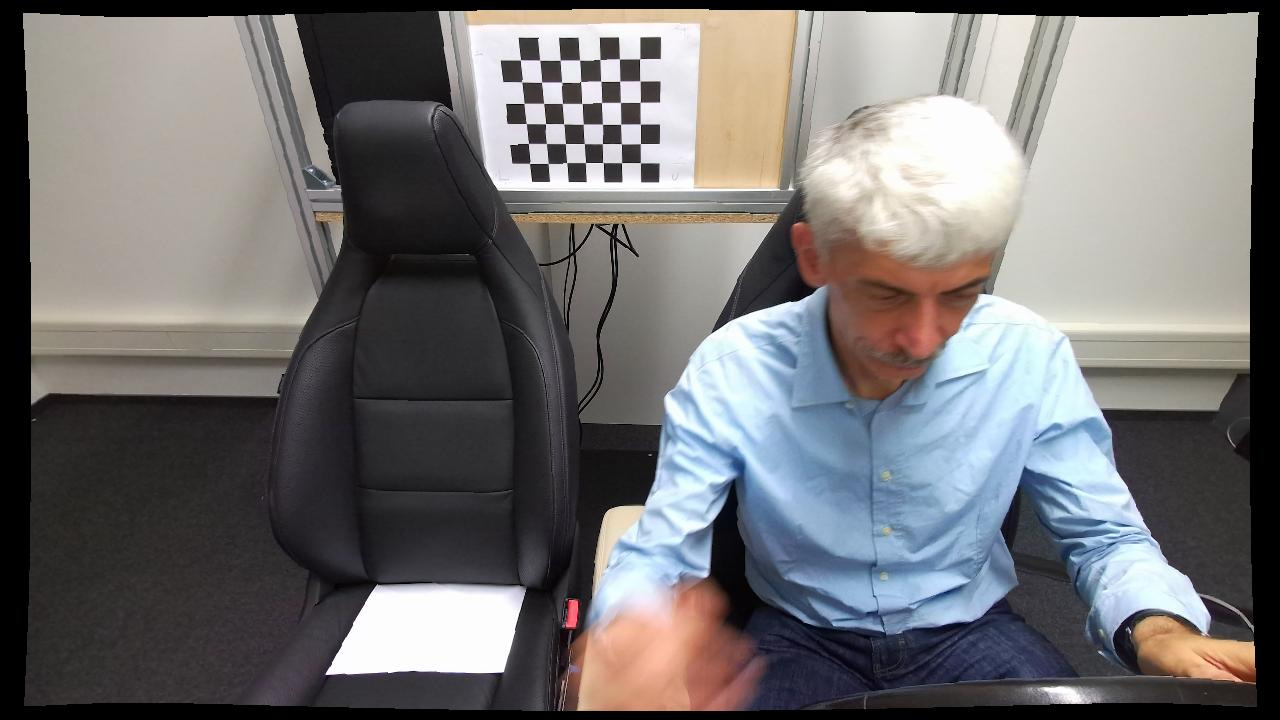Distracted: (562, 102, 1143, 712)
